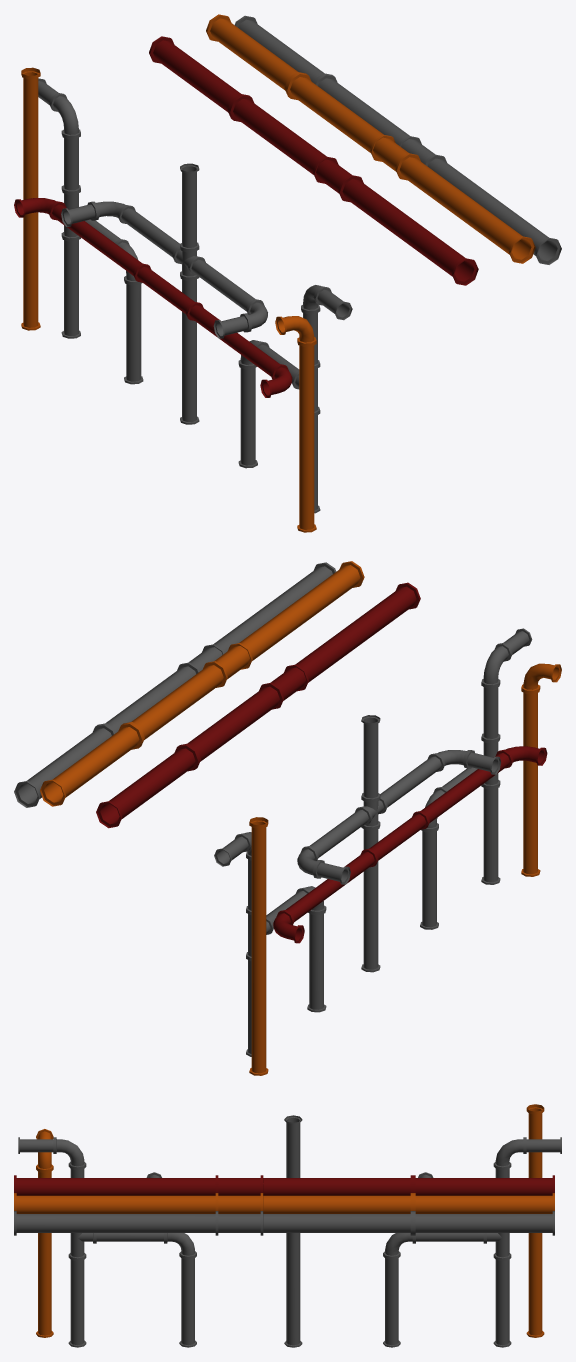
Rendered from SM_H_Building_Tide_Loungehall_20B_ATLAS.fbx.
3 views of the same model, one above another, from view 1: azimuth 30°, elevation 25°; view 2: azimuth 150°, elevation 25°; view 3: azimuth 270°, elevation 25° (orthographic). The views are drawn at different scales.
Parts seen in each view (by area): view 1: SM_H_Building_Tide_Loungehall_20B_ATLAS; view 2: SM_H_Building_Tide_Loungehall_20B_ATLAS; view 3: SM_H_Building_Tide_Loungehall_20B_ATLAS.
Boxes of the visible parts, bbox=[...] form: SM_H_Building_Tide_Loungehall_20B_ATLAS: bbox=[14, 14, 561, 532]; SM_H_Building_Tide_Loungehall_20B_ATLAS: bbox=[14, 561, 561, 1075]; SM_H_Building_Tide_Loungehall_20B_ATLAS: bbox=[14, 1104, 561, 1347].
Bounding box in the file's own units: 572 × 1154 × 528.
